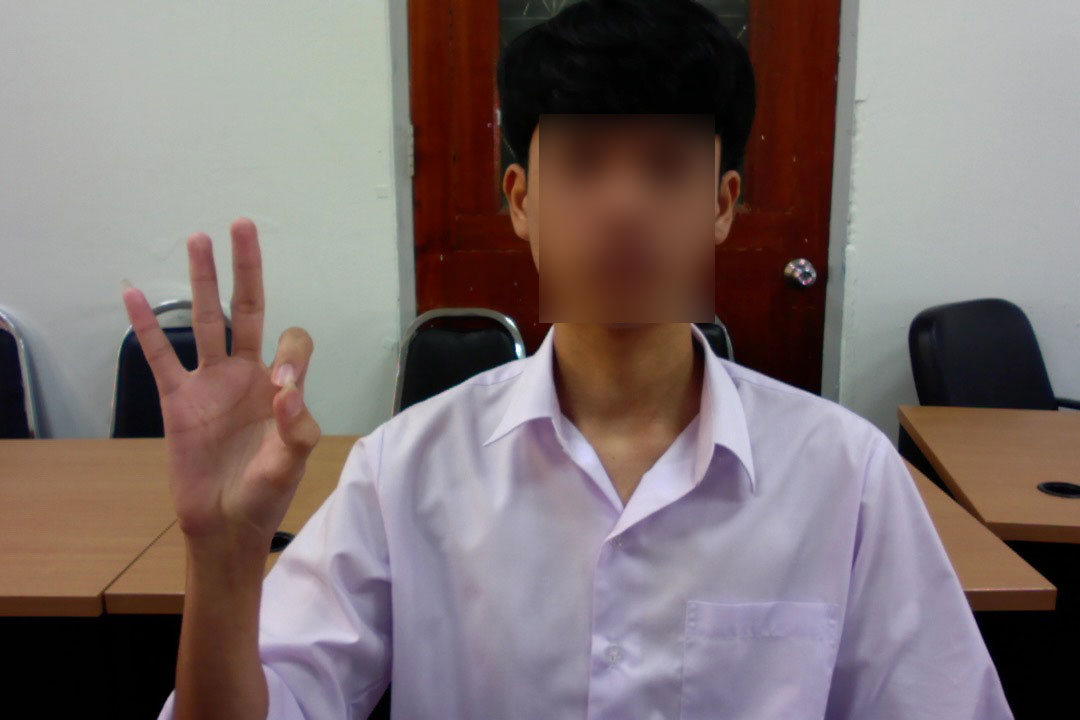for: (96, 192, 342, 597)
